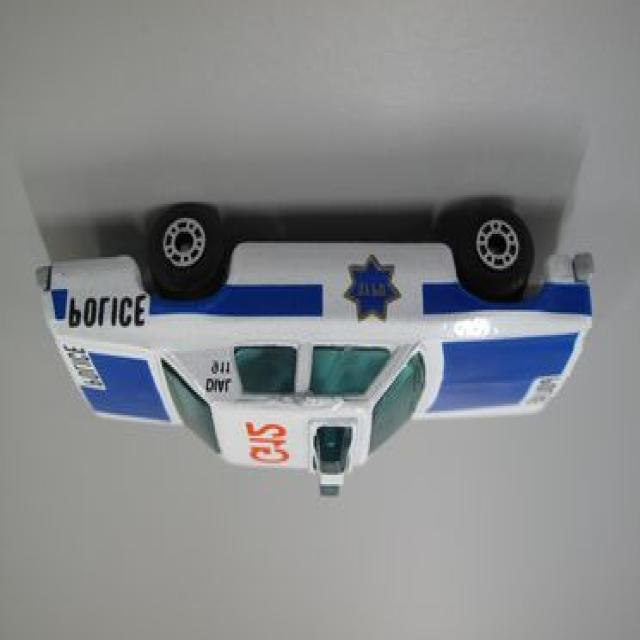Car: (34, 204, 594, 500)
